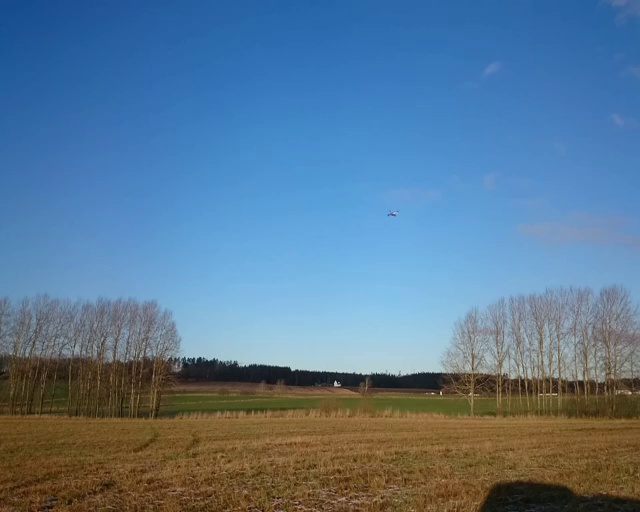DRONE: (387, 209, 400, 217)
